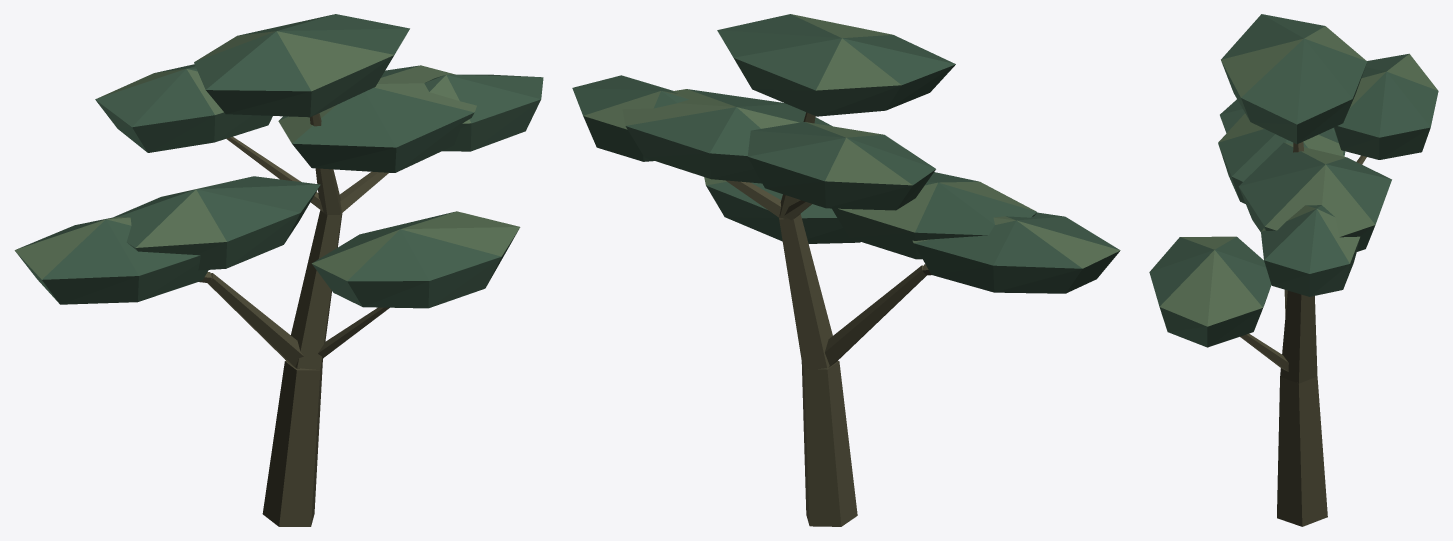
The model's file is river-pine.obj.
3 renders of one model, left to right at view 1: azimuth 30°, elevation 25°; view 2: azimuth 150°, elevation 25°; view 3: azimuth 270°, elevation 25°, orthographic. The views are drawn at different scales.
Bounding box in the file's own units: 3.27 × 2.9 × 1.62.
